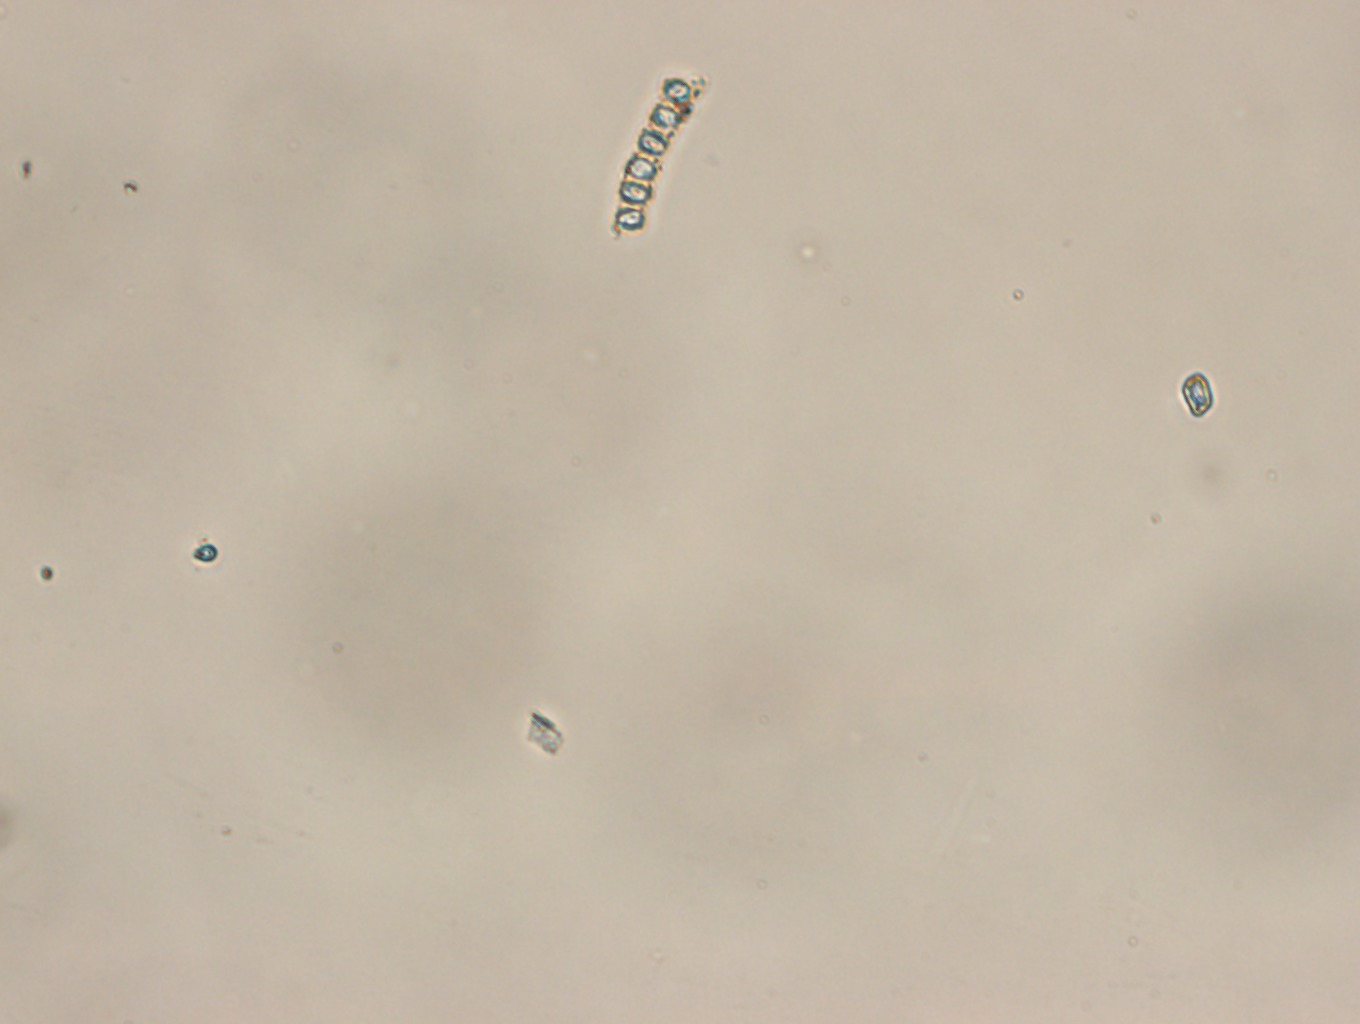skeletonema: (613, 75, 697, 234)
